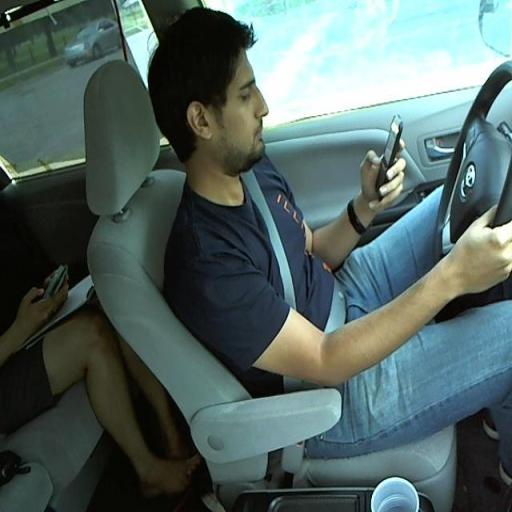texting_phone: (146, 33, 512, 378)
